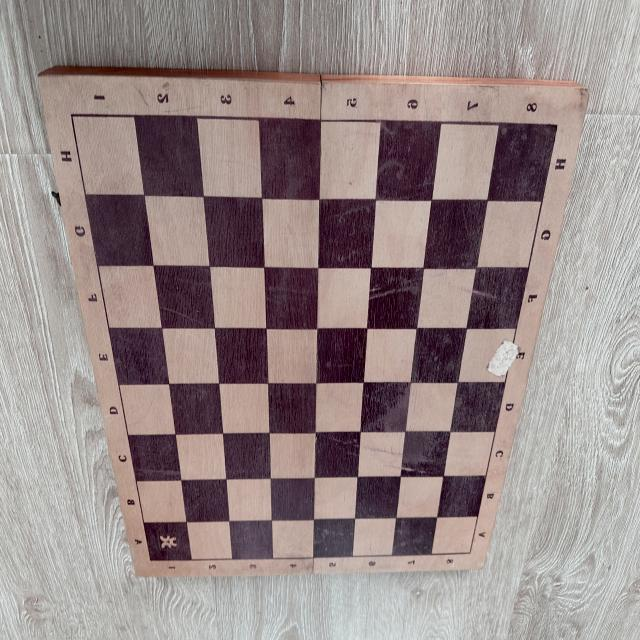chess-table-corners: (549, 115, 565, 137), (62, 107, 80, 125), (463, 544, 477, 562), (144, 552, 156, 569)
